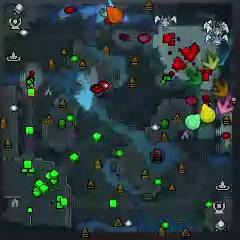p2: (185, 114, 201, 130)
p4: (200, 103, 216, 123)
p5: (107, 5, 123, 25)
x1: (216, 96, 233, 114)
x2: (202, 51, 220, 71)
x3: (100, 0, 115, 17)
x4: (185, 70, 203, 86)
x5: (212, 80, 228, 97)
